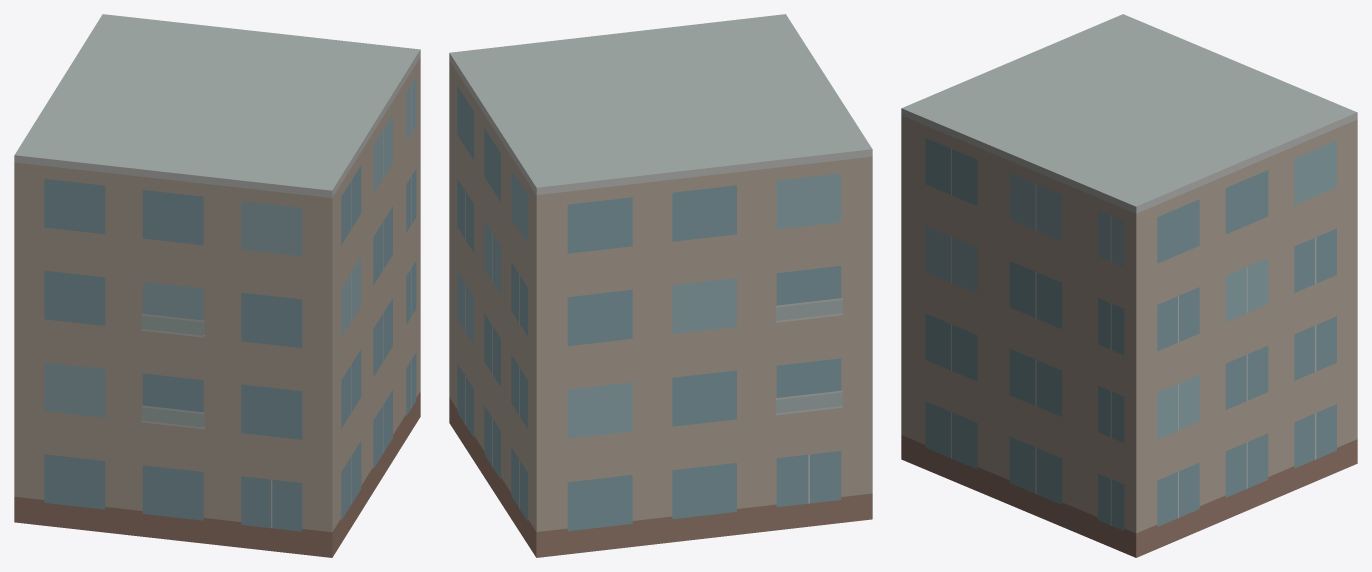
File: residential-84d98a54-b094-415b-910e-48b71db7adfb.glb
3 views of the same model, side by side, from view 1: azimuth 30°, elevation 25°; view 2: azimuth 150°, elevation 25°; view 3: azimuth 270°, elevation 25° (orthographic). The views are drawn at different scales.
Visible parts, largest first — view 1: residential-84d98a54-b094-415b-910e-48b71db7adfb.tmp; view 2: residential-84d98a54-b094-415b-910e-48b71db7adfb.tmp; view 3: residential-84d98a54-b094-415b-910e-48b71db7adfb.tmp.
Part boxes in pixels (bbox=[...]): residential-84d98a54-b094-415b-910e-48b71db7adfb.tmp: bbox=[14, 14, 420, 557]; residential-84d98a54-b094-415b-910e-48b71db7adfb.tmp: bbox=[449, 14, 872, 557]; residential-84d98a54-b094-415b-910e-48b71db7adfb.tmp: bbox=[901, 14, 1357, 557].
Size of the model in its own units: 14.37 by 12.2 by 14.37.
